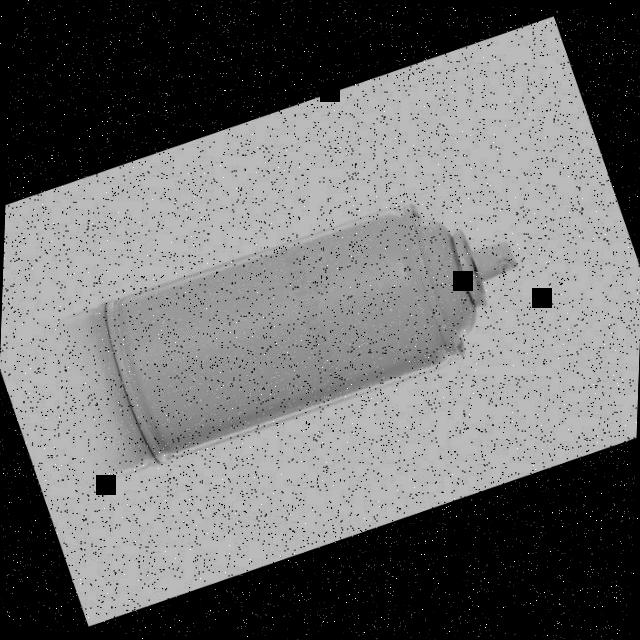chemical_spray_can: (71, 134, 561, 506)
